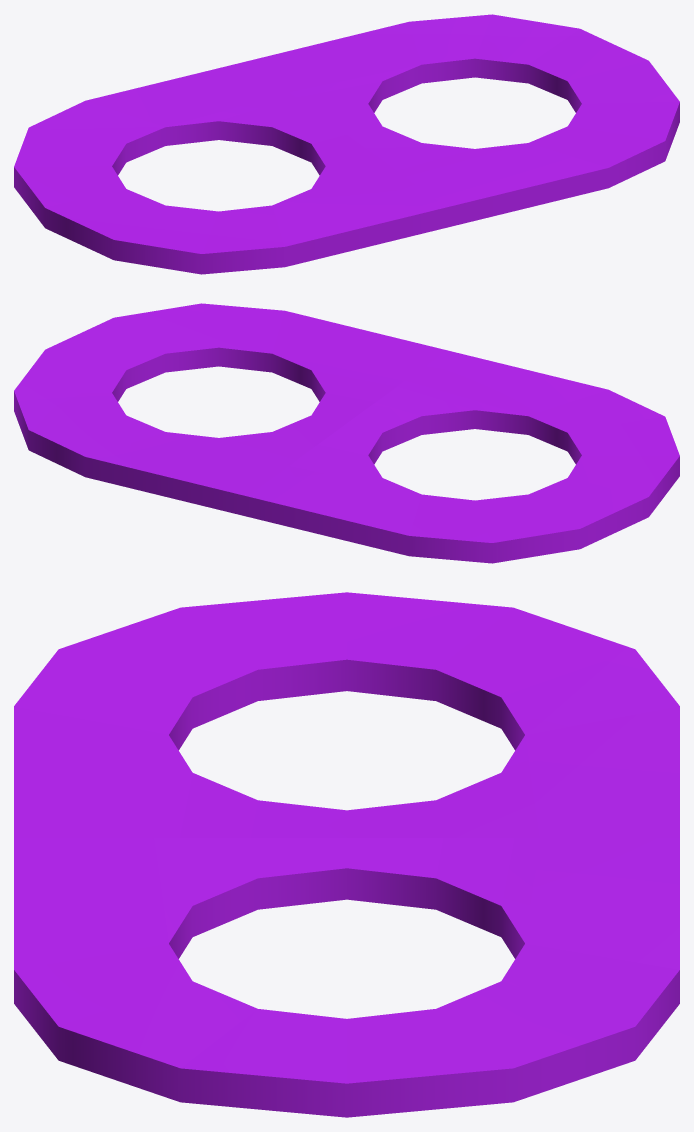
The model's file is TwoLongPink.fbx.
The picture shows the model from 3 angles, top to bottom: view 1: azimuth 30°, elevation 25°; view 2: azimuth 150°, elevation 25°; view 3: azimuth 270°, elevation 25°; orthographic projection. The views are drawn at different scales.
Visible parts, largest first — view 1: Blue2; view 2: Blue2; view 3: Blue2.
Boxes of the visible parts, bbox=[...] form: Blue2: bbox=[14, 14, 679, 274]; Blue2: bbox=[14, 303, 679, 563]; Blue2: bbox=[14, 592, 679, 1117].
Size of the model in its own units: 6.02 by 0.1942 by 3.45.
